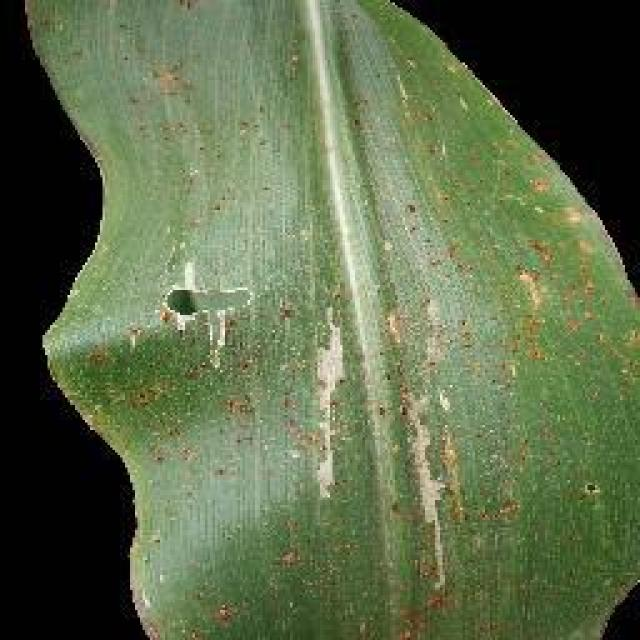Corn Common Rust: (128, 67, 564, 573)
